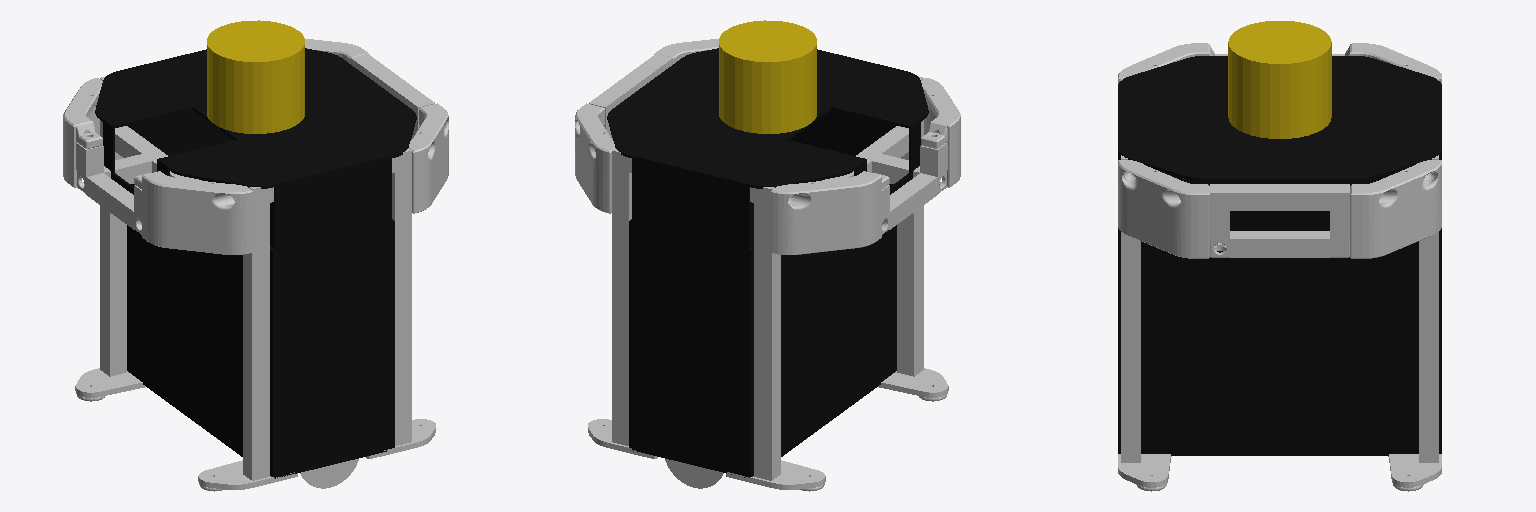
URDF robot description (yellow):
<?xml version="1.0"?>
<robot name="yellow">

  <!-- MATERIALS -->
  <material name="steel">
    <color rgba="0.8 0.8 0.8 1.0"/>
  </material>

  <material name="orange">
    <color rgba="0.8 0.2 0.0 1.0"/>
  </material>

  <material name="black">
    <color rgba="0.2 0.2 0.2 1.0"/>
  </material>

  <material name="black_plexi">
    <color rgba="0.1 0.1 0.1 1.0"/>
  </material>
  
  <material name="blue">
    <color rgba="0.1 0.1 0.8 1.0"/>
  </material>

  <material name="yellow">
    <color rgba="0.8 0.7 0.1 1.0"/>
  </material>


  <link name="base_link">
    <visual>
      <geometry>
		<mesh filename="package://ros381_description/meshes/base.stl"/>
      </geometry>
      <origin xyz="0 0 0" rpy="0 0 1.570796327"/>
      <material name="steel"/>
    </visual>
    <inertial>
      <origin xyz="0 0 0.1675"/>
      <mass value="2.0"/>
      <inertia ixx="0.044" iyy="0.02" izz="0.03" ixy="0.0" iyz="0.0" ixz="0.0"/>
    </inertial>
    <collision>
      <origin xyz="0 0 0.000" rpy="0 0 0"/>
      <geometry>
		    <!-- <cylinder radius="0.14" length="0.004"/> -->
        <box size="0.125 0.21 0.004"/>
      </geometry>
    </collision>
  </link>

  <link name="wheel_right">
    <visual>
      <geometry>
        <cylinder radius="0.035" length="0.039"/>
      </geometry>
      <origin rpy="0 0 0"/>
      <material name="orange"/>
    </visual>
    <inertial>
      <origin xyz="0 0 0" rpy="0 0 0"/>
      <mass value="0.1"/>
      <inertia 
        ixx="5e-5" iyy="5e-5" izz="8e-5" 
        ixy="0.0" iyz="0.0" ixz="0.0"/>
    </inertial>
    <collision>
      <origin xyz="0 0 0" rpy="0 0 0"/>
      <geometry>
        <cylinder radius="0.035" length="0.039"/>
      </geometry>
    </collision>
  </link>
  <joint name="wheel_right" type="continuous">
    <parent link="base_link"/>
    <child link="wheel_right"/>
    <axis xyz="0.0 0.0 -1.0"/>
    <origin xyz="0.0 -0.07725 0.032" rpy="1.570796327 0 0"/>
  </joint> 
  
  <link name="wheel_left">
    <visual>
      <geometry>
        <cylinder radius="0.035" length="0.039"/>
      </geometry>
      <origin rpy="0 0 0"/>
      <material name="orange"/>
    </visual>
    <inertial>
      <origin xyz="0 0 0" rpy="0 0 0"/>
      <mass value="0.1"/>
      <inertia 
        ixx="5e-5" iyy="5e-5" izz="8e-5" 
        ixy="0.0" iyz="0.0" ixz="0.0"/>
    </inertial>
    <collision>
      <origin xyz="0 0 0" rpy="0 0 0"/>
      <geometry>
        <cylinder radius="0.035" length="0.039"/>
      </geometry>
    </collision>
  </link>
  <joint name="wheel_left" type="continuous">
    <parent link="base_link"/>
    <child link="wheel_left"/>
    <axis xyz="0.0 0.0 -1.0"/>
    <origin xyz="0.0 0.07725 0.032" rpy="1.570796327 0 0"/>
  </joint>

  <link name="right_odometry_block">
    <visual>
      <geometry>
        <box size="0.09 0.015 0.05"/>
      </geometry>
      <origin xyz="0 0 0.025"/>
      <material name="steel"/>
    </visual>
    <collision>
      <origin xyz="0 0 0.025"/>
      <geometry>
        <box size="0.09 0.015 0.05"/>
      </geometry>
    </collision>
    <inertial>
      <origin xyz="0 0 0.025" rpy="0 0 0"/>
      <mass value="0.0622"/>
      <inertia 
        ixx="1.41e-5" iyy="5.49e-5" izz="4.31e-5" 
        ixy="0.0" iyz="0.0" ixz="0.0"/>
    </inertial>
  </link>
  <joint name="right_odometry_slider" type="prismatic">
    <parent link="base_link"/>
    <child link="right_odometry_block"/>
    <axis xyz="0 0 1"/>
    <limit lower="0.0" upper="0.03" effort="0" velocity="100"/>
    <dynamics damping="0.1"/>
    <origin xyz="0 -0.134 0.015"/>
  </joint>

  <link name="left_odometry_block">
    <visual>
      <geometry>
        <box size="0.09 0.015 0.05"/>
      </geometry>
      <origin xyz="0 0 0.025"/>
      <material name="steel"/>
    </visual>
    <collision>
      <origin xyz="0 0 0.025"/>
      <geometry>
        <box size="0.09 0.015 0.05"/>
      </geometry>
    </collision>
    <inertial>
      <origin xyz="0 0 0.025" rpy="0 0 0"/>
      <mass value="0.0622"/>
      <inertia 
        ixx="1.41e-5" iyy="5.49e-5" izz="4.31e-5" 
        ixy="0.0" iyz="0.0" ixz="0.0"/>
    </inertial>
  </link>
  <joint name="left_odometry_slider" type="prismatic">
    <parent link="base_link"/>
    <child link="left_odometry_block"/>
    <axis xyz="0 0 1"/>
    <limit lower="0.0" upper="0.03" effort="0" velocity="100"/>
    <dynamics damping="0.1"/>
    <origin xyz="0 0.134 0.015"/>
  </joint>

  <link name="odometry_wheel_right">
    <visual>
      <geometry>
        <cylinder radius="0.036" length="0.002"/>
      </geometry>
      <origin rpy="0 0 0"/>
      <material name="steel"/>
    </visual>
    <inertial>
      <origin xyz="0 0 0" rpy="0 0 0"/>
      <mass value="0.055"/>
      <inertia 
        ixx="1.79e-5" iyy="1.79e-5" izz="3.56e-5" 
        ixy="0.0" iyz="0.0" ixz="0.0"/>
    </inertial>
    <collision>
      <origin xyz="0 0 0" rpy="0 0 0"/>
      <geometry>
        <cylinder radius="0.036" length="0.002"/>
      </geometry>
    </collision>
  </link>
  <joint name="odometry_wheel_right" type="continuous">
    <parent link="right_odometry_block"/>
    <child link="odometry_wheel_right"/>
    <axis xyz="0.0 0.0 -1.0"/>
    <origin xyz="0 -0.0145 0" rpy="1.570796327 0 0"/>
  </joint> 

  <link name="odometry_wheel_left">
    <visual>
      <geometry>
        <cylinder radius="0.036" length="0.002"/>
      </geometry>
      <origin rpy="0 0 0"/>
      <material name="steel"/>
    </visual>
    <inertial>
      <origin xyz="0 0 0" rpy="0 0 0"/>
      <mass value="0.055"/>
      <inertia 
        ixx="1.79e-5" iyy="1.79e-5" izz="3.56e-5" 
        ixy="0.0" iyz="0.0" ixz="0.0"/>
    </inertial>
    <collision>
      <origin xyz="0 0 0" rpy="0 0 0"/>
      <geometry>
        <cylinder radius="0.036" length="0.002"/>
      </geometry>
    </collision>
  </link>
  <joint name="odometry_wheel_left" type="continuous">
    <parent link="left_odometry_block"/>
    <child link="odometry_wheel_left"/>
    <axis xyz="0.0 0.0 -1.0"/>
    <origin xyz="0 0.0145 0" rpy="1.570796327 0 0"/>
  </joint>

  <link name="armor">
    <visual>
      <geometry>
		<mesh filename="package://ros381_description/meshes/armor.stl"/>
      </geometry>
      <origin xyz="0 0 0" rpy="0 0 0"/>
      <material name="black_plexi"/>
    </visual>
    <inertial>
      <origin xyz="0 0 0.1675"/>
      <mass value="2.0"/>
      <inertia ixx="0.044" iyy="0.02" izz="0.03" ixy="0.0" iyz="0.0" ixz="0.0"/>
    </inertial>
    <collision>
      <origin xyz="0 0 0" rpy="0 0 0"/>
      <geometry>
        <mesh filename="package://ros381_description/meshes/base_collision.stl"/>
      </geometry>
    </collision>
  </link>
  <joint name="armor_joint" type="fixed">
	<parent link="base_link"/>
	<child link="armor"/>
    <origin xyz="0 0 0" rpy="0 0 1.570796327"/>
  </joint>

  <link name="lidar">
	<visual>
	  <geometry>
		<cylinder radius="0.05" length="0.08"/>
	  </geometry>
      <origin xyz="0 0 0" rpy="0 0 0"/>
	  <material name="yellow"/>
	</visual>
    <inertial>
      <origin xyz="0 0 0"/>
      <mass value="0.1"/>
	  <inertia ixx="0.00012" iyy="0.00012" izz="0.0001" ixy="0.0" iyz="0.0" ixz="0.0"/>
    </inertial>
    <collision>
      <origin xyz="0 0 0" rpy="0 0 0"/>
      <geometry>
		<cylinder radius="0.05" length="0.08"/>
      </geometry>
    </collision>
  </link>
  <joint name="lidar_joint" type="fixed">
	<parent link="base_link"/>
	<child link="lidar"/>
    <origin xyz="0 0 0.376" rpy="0 0 0"/>
  </joint>

  <webots>
	<device reference="wheel_right" type="RotationalMotor">
      <maxTorque>10</maxTorque>
      <maxVelocity>60</maxVelocity>
      <acceleration>600</acceleration>
    </device>
    <device reference="wheel_left" type="RotationalMotor">
      <maxTorque>10</maxTorque>
      <maxVelocity>60</maxVelocity>
      <acceleration>600</acceleration>
    </device>
    <device reference="right_odometry_slider" type="LinearMotor">
      <maxForce>1</maxForce>
      <maxVelocity>100</maxVelocity>
      <maxPosition>0.03</maxPosition>
    </device>
    <device reference="left_odometry_slider" type="LinearMotor">
      <maxForce>1</maxForce>
      <maxVelocity>100</maxVelocity>
      <maxPosition>0.03</maxPosition>
    </device>
    <device reference="odometry_wheel_right" type="RotationalMotor">
      <maxTorque>0</maxTorque>
    </device>
    <device reference="odometry_wheel_left" type="RotationalMotor">
      <maxTorque>0</maxTorque>
    </device>
    <plugin type="ros381_webots.motor_driver.MotorDriver"/>
    <plugin type="ros381_webots.encoder_reader.EncoderReader"/>
    <plugin type="ros381_webots.lidar_reader.LidarReader"/>
    <!-- <plugin type="ros381_webots.odometry.OdometryW"/> -->
  </webots>
</robot>

--- Facts derived from the render (not from the file) ---
3 views of the same robot in one strip: view 1: azimuth 30°, elevation 25°; view 2: azimuth 150°, elevation 25°; view 3: azimuth 270°, elevation 25° (orthographic).
Model yellow with 9 links and 8 joints (4 continuous, 2 prismatic, 2 fixed), rooted at base_link, posed every joint at zero.
Visible links, largest first — view 1: armor, base_link, lidar, odometry_wheel_right; view 2: armor, base_link, lidar, odometry_wheel_left; view 3: armor, base_link, lidar.
Boxes of the visible links, box(x1,y1,x2,y2) form: armor: box(95, 48, 416, 478); base_link: box(63, 39, 448, 491); lidar: box(207, 20, 304, 133); odometry_wheel_right: box(300, 459, 358, 488); armor: box(607, 48, 928, 477); base_link: box(575, 39, 960, 491); lidar: box(719, 20, 816, 133); odometry_wheel_left: box(665, 459, 723, 488); armor: box(1118, 56, 1441, 455); base_link: box(1118, 43, 1441, 491); lidar: box(1228, 21, 1331, 138).
Bounding box of the posed robot: 0.346 × 0.314 × 0.437 m (x, y, z).
2 mesh visuals loaded from 2 distinct referenced files (2 binary STL).
